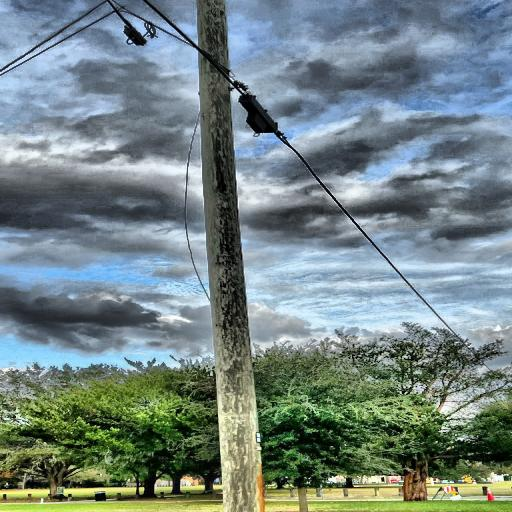pole: (181, 0, 284, 512)
